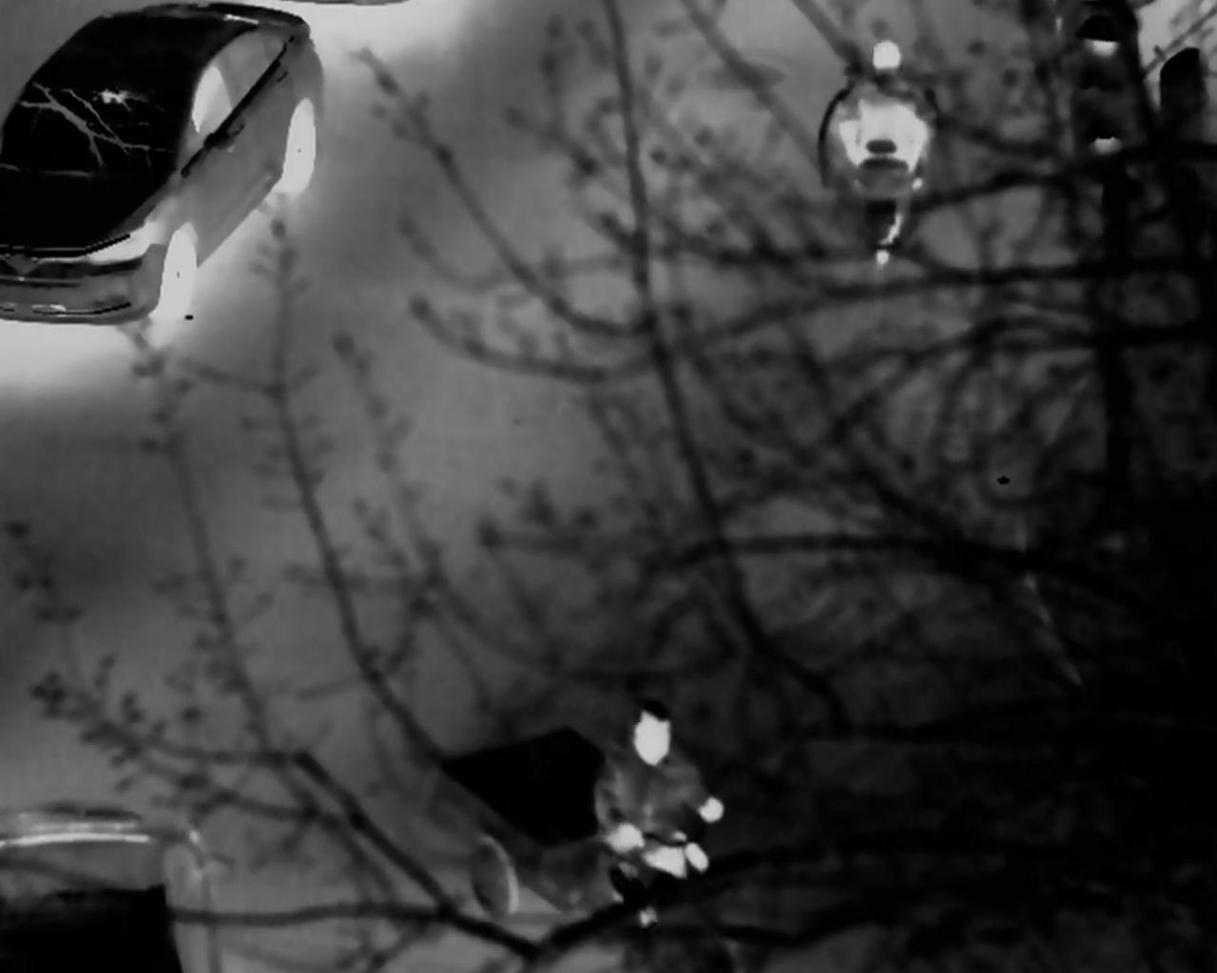person: (608, 705, 717, 894), (835, 28, 927, 227)
